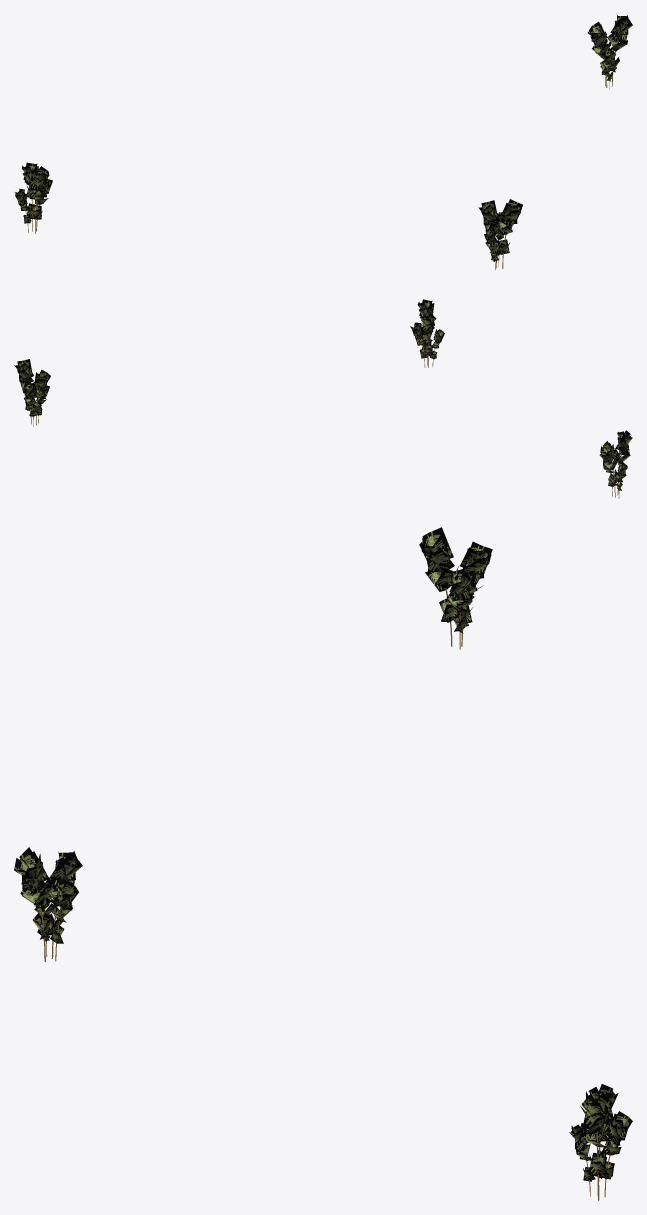
File: coast-2-1.glb
3 renders of one model, top to bottom at view 1: azimuth 30°, elevation 25°; view 2: azimuth 150°, elevation 25°; view 3: azimuth 270°, elevation 25°, orthographic. The views are drawn at different scales.
Visible parts, largest first — view 1: coast-2-1; view 2: coast-2-1; view 3: coast-2-1.
Part boxes in pixels (x1,y1,x2,y2): coast-2-1: (14,15,632,270); coast-2-1: (14,299,632,498); coast-2-1: (14,527,632,1200).
Bounding box in the file's own units: 42.37 × 6.67 × 21.34.
6 materials, 6 textured.
